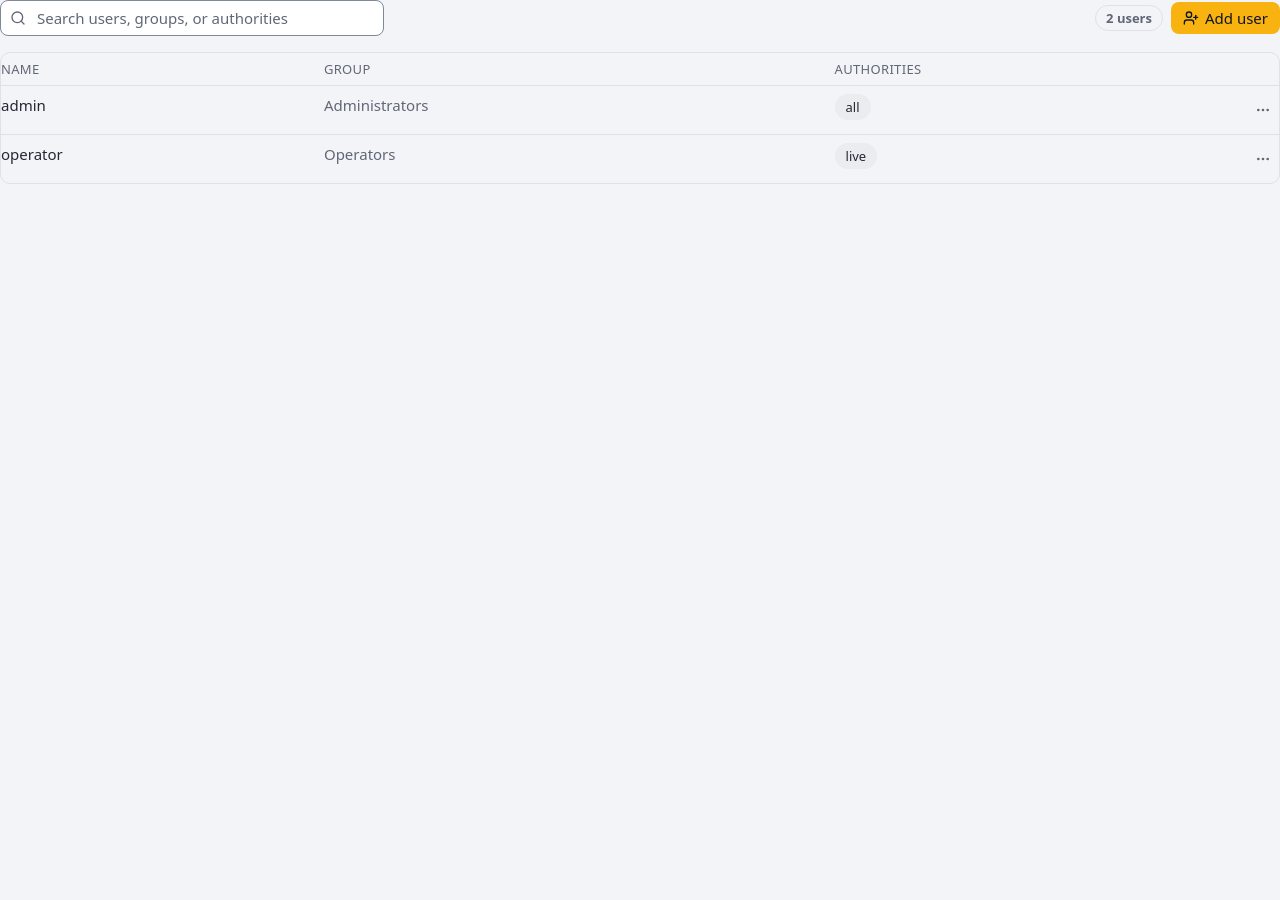
DeviceUserSection › edits an existing account only when update is available
Press the mouse on the button named "actions: operator" at (1263, 159), box top-left (1247, 143), bottom-right (1279, 175)
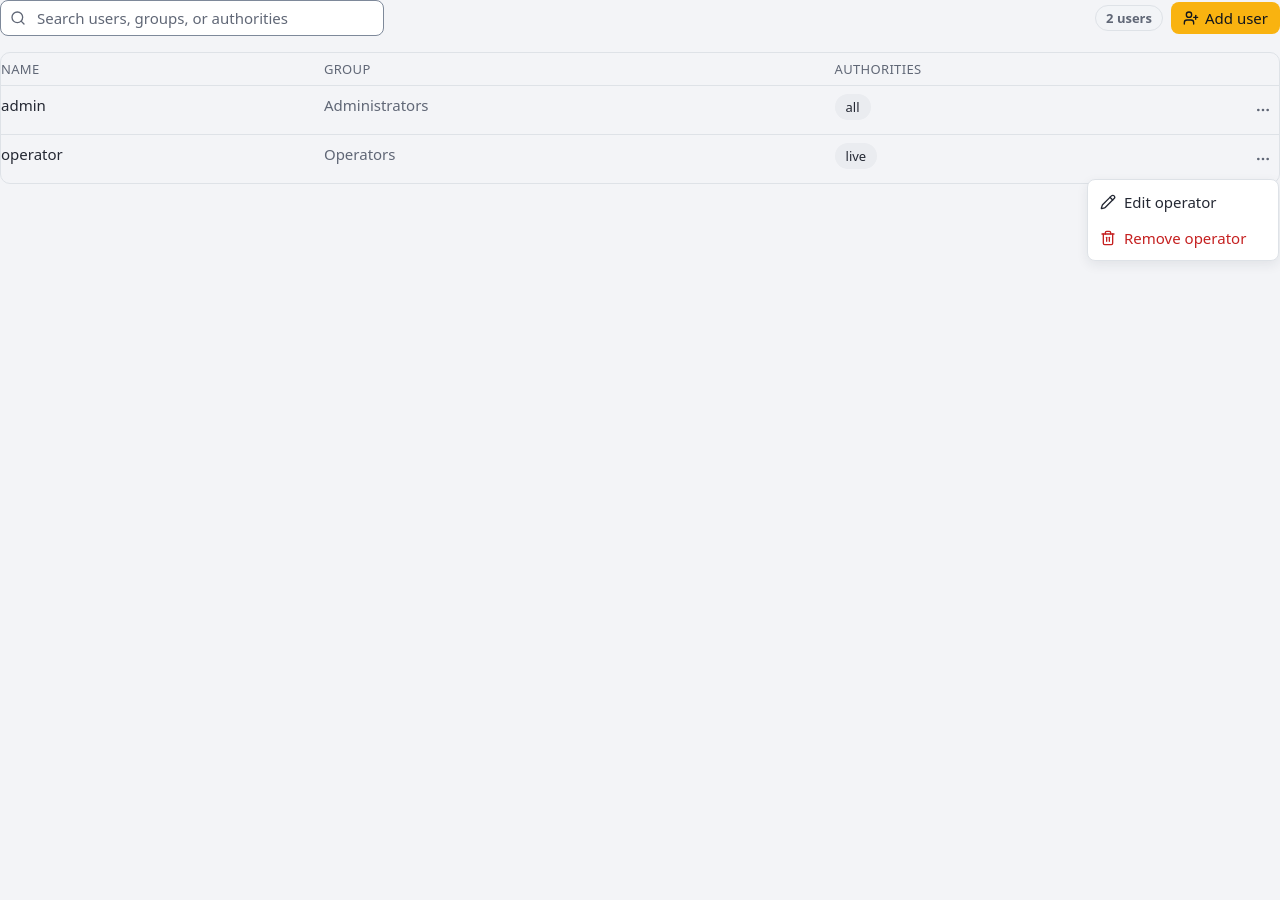
Click the menu item "Edit operator" at (1158, 202), box top-left (1100, 192), bottom-right (1216, 212)
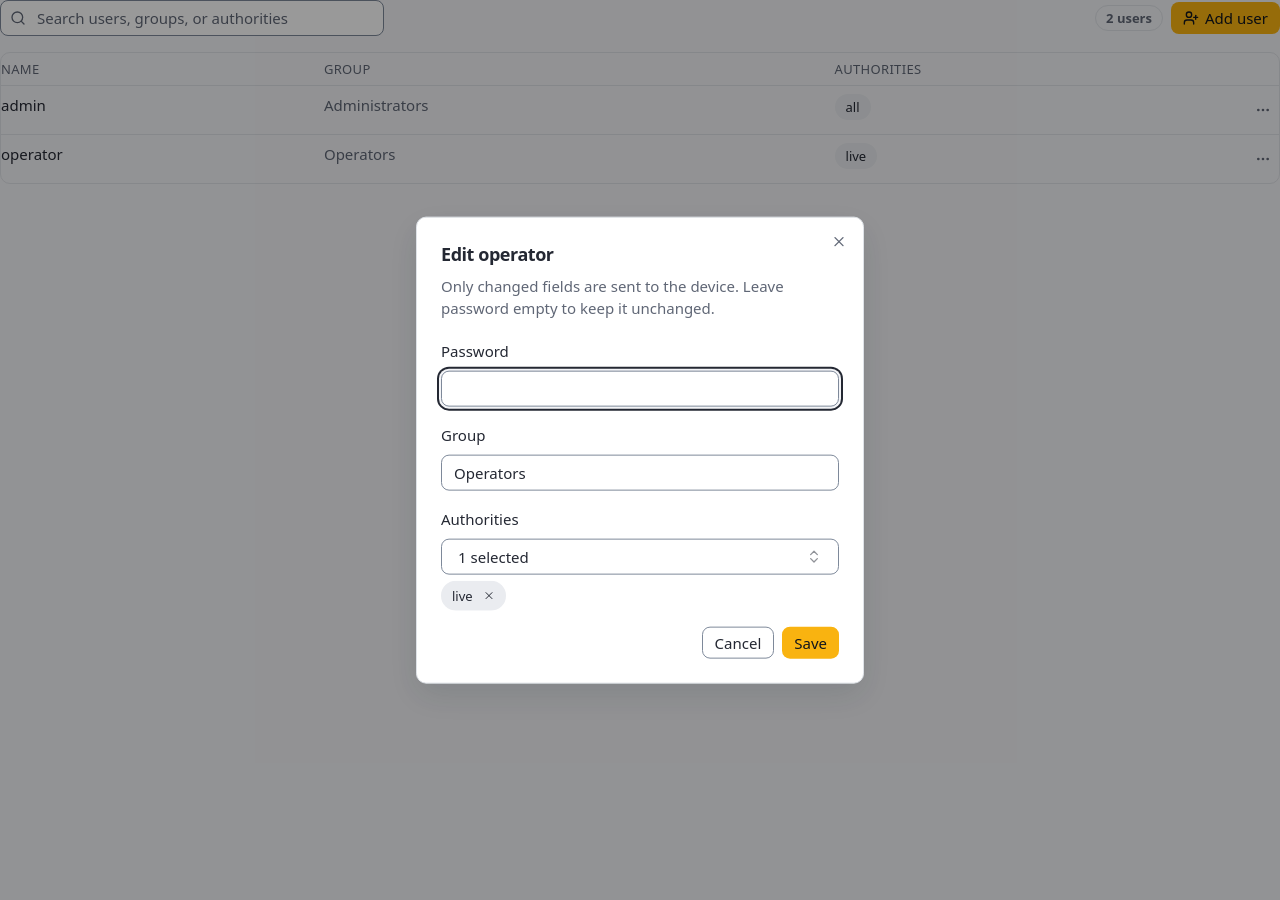
Type "new-password" into the password field labelled "Password" at (640, 388), box top-left (441, 370), bottom-right (839, 406)
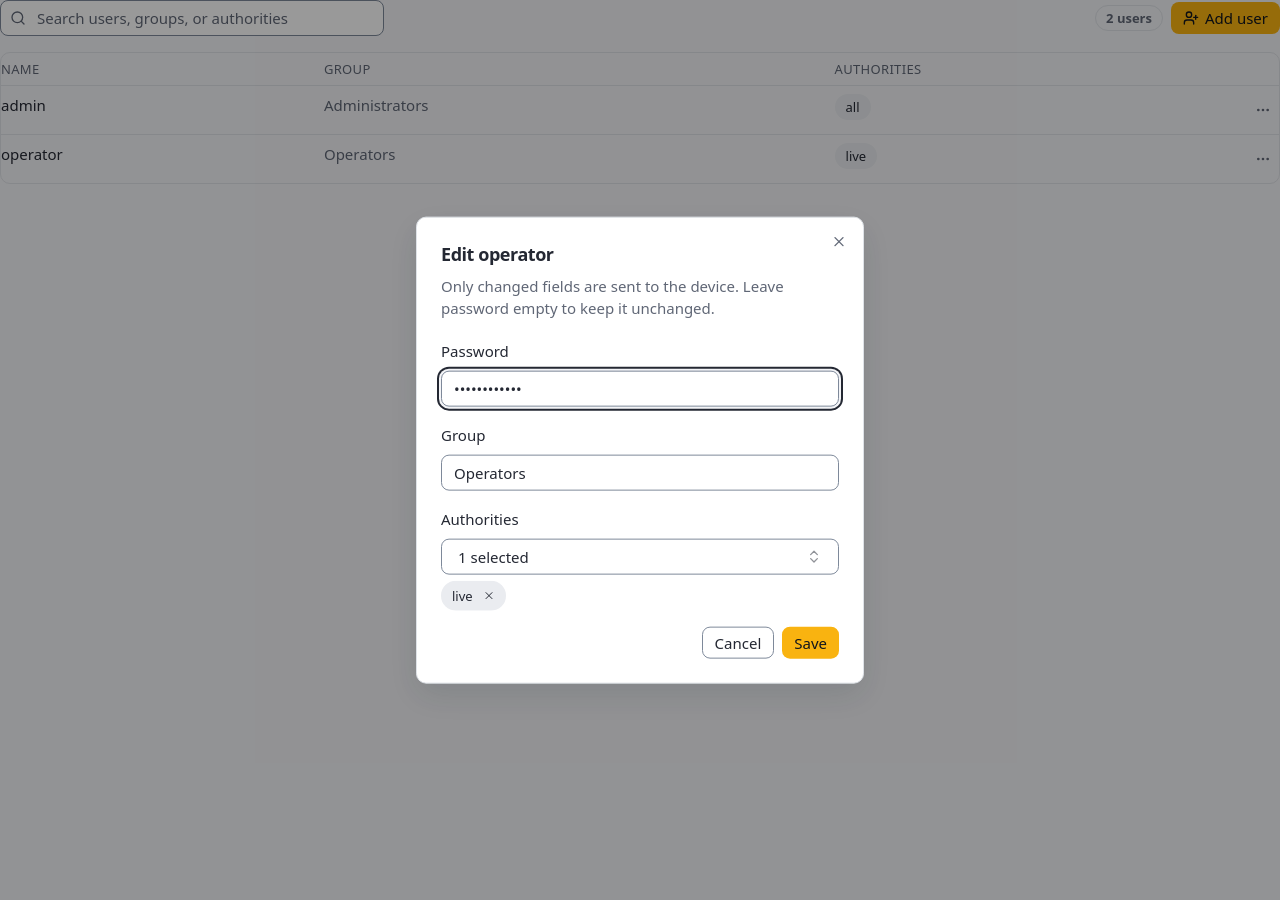
Replace the text in the field labelled "Group" with "Supervisors" at (640, 472), box top-left (441, 454), bottom-right (839, 490)
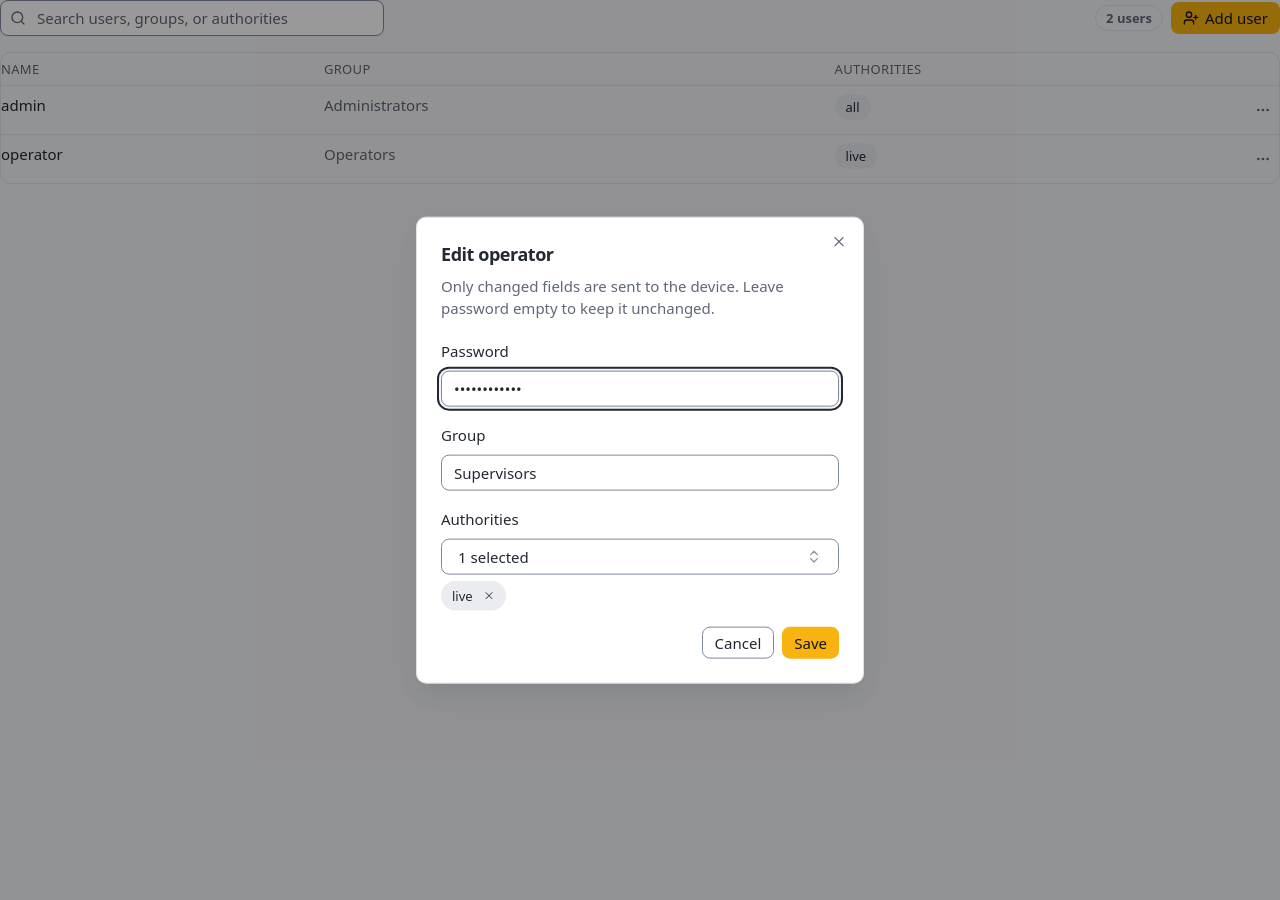
Click the button "Save" at (811, 642), box top-left (782, 626), bottom-right (839, 658)
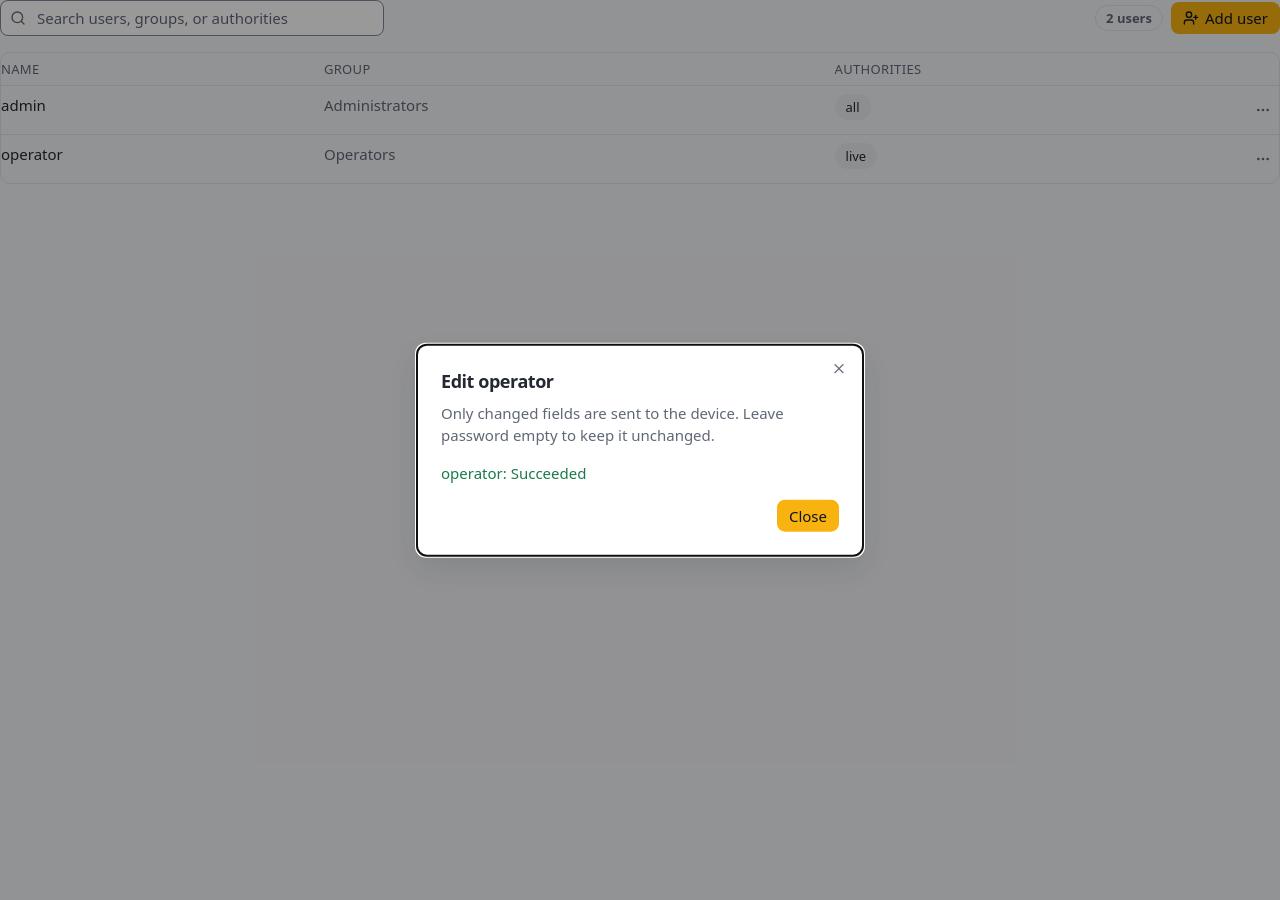
Result: the text "operator: Succeeded" is shown at top-left (441, 462), bottom-right (586, 482)
